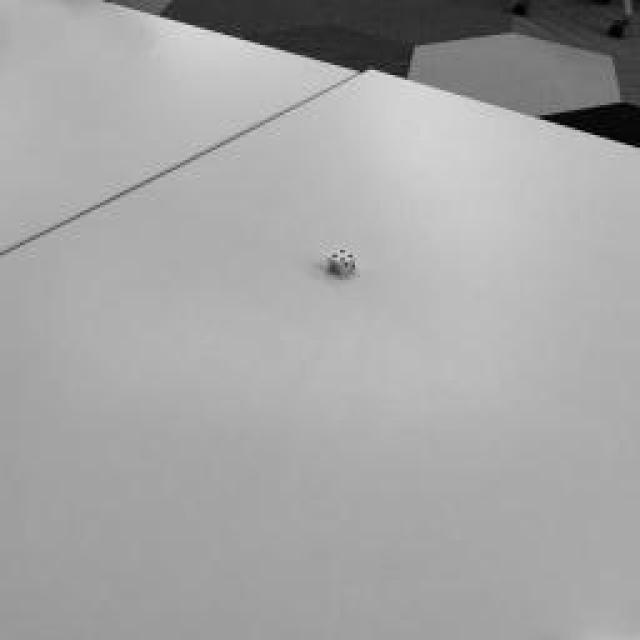dice_4: (330, 250, 355, 265)
